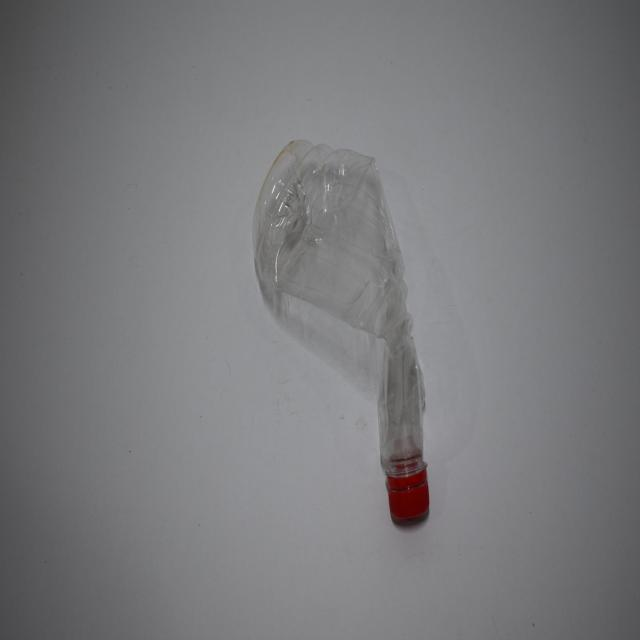bottle: (253, 132, 447, 546)
